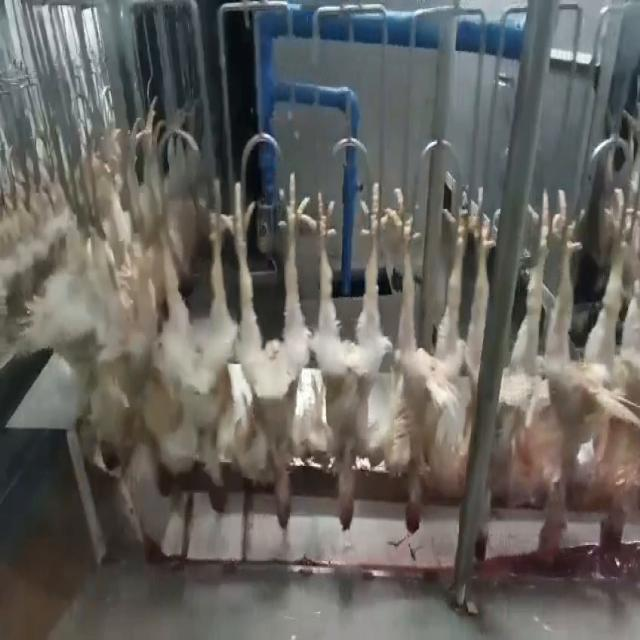chicken: (542, 184, 640, 576), (384, 176, 476, 538), (139, 170, 227, 498), (230, 169, 309, 534), (311, 170, 384, 534)
